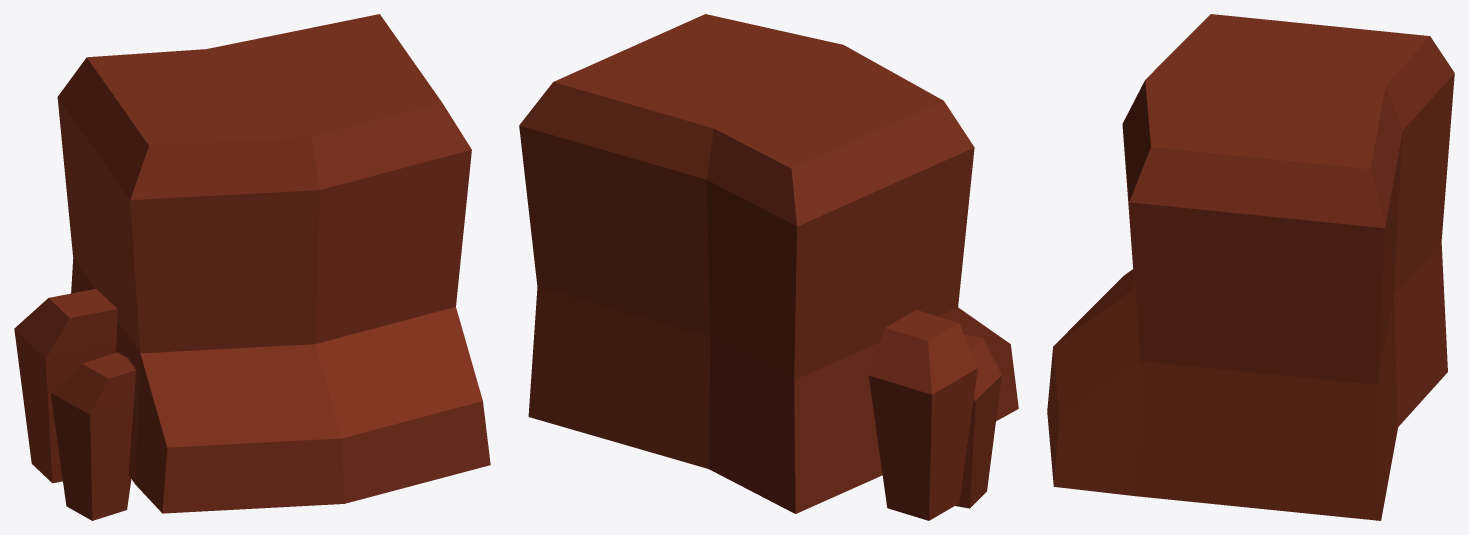
The model's file is lp_Rock_Type6_03_mesh_001_Plane_029.obj.
3 renders of one model, left to right at view 1: azimuth 30°, elevation 25°; view 2: azimuth 150°, elevation 25°; view 3: azimuth 270°, elevation 25°, orthographic. The views are drawn at different scales.
Visible parts, largest first — view 1: lp_Rock_Type6_03_mesh_001_Plane_029; view 2: lp_Rock_Type6_03_mesh_001_Plane_029; view 3: lp_Rock_Type6_03_mesh_001_Plane_029.
Part boxes in pixels (x1,y1,x2,y2): lp_Rock_Type6_03_mesh_001_Plane_029: [14, 14, 490, 520]; lp_Rock_Type6_03_mesh_001_Plane_029: [519, 14, 1018, 520]; lp_Rock_Type6_03_mesh_001_Plane_029: [1047, 14, 1454, 520].
Size of the model in its own units: 3.19 by 2.78 by 2.7.
